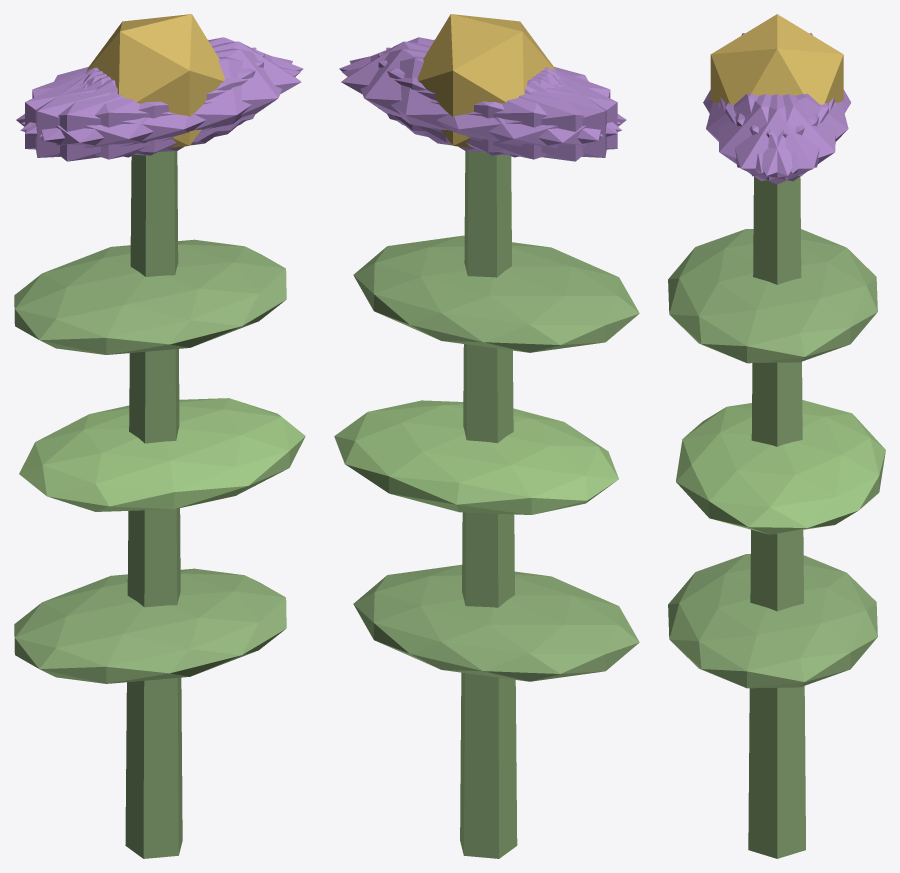
File: peltophorum-pterocarpum.glb
The picture shows the model from 3 angles, left to right: view 1: azimuth 30°, elevation 25°; view 2: azimuth 150°, elevation 25°; view 3: azimuth 270°, elevation 25°; orthographic projection.
Parts seen in each view (by area): view 1: stem, leaf2, leaf0, leaf1, center, petal1, petal6, petal2, petal5, petal7, petal0, petal4 (+2 smaller); view 2: stem, leaf2, leaf1, leaf0, center, petal8, petal3, petal7, petal4, petal2, petal0, petal5 (+2 smaller); view 3: stem, leaf1, leaf2, leaf0, center, petal0, petal4, petal5, petal8, petal1.
Boxes of the visible parts, x1,y1,x2,y2 form: stem: [125, 151, 182, 858]; leaf2: [14, 239, 286, 354]; leaf0: [14, 568, 286, 683]; leaf1: [19, 398, 305, 511]; center: [87, 14, 224, 148]; petal1: [20, 56, 300, 159]; petal6: [16, 69, 218, 161]; petal2: [35, 47, 256, 157]; petal5: [39, 48, 292, 152]; petal7: [25, 53, 264, 155]; petal0: [86, 41, 301, 142]; petal4: [21, 37, 303, 133]; stem: [460, 151, 517, 858]; leaf2: [353, 235, 639, 352]; leaf1: [334, 400, 618, 514]; leaf0: [353, 564, 639, 681]; center: [417, 14, 555, 148]; petal8: [342, 56, 621, 159]; petal3: [423, 69, 626, 161]; petal7: [386, 47, 606, 157]; petal4: [349, 48, 603, 152]; petal2: [378, 53, 617, 155]; petal0: [341, 41, 555, 142]; petal5: [339, 37, 620, 133]; stem: [748, 176, 805, 858]; leaf1: [676, 400, 885, 534]; leaf2: [668, 229, 877, 363]; leaf0: [668, 554, 877, 688]; center: [710, 14, 843, 104]; petal0: [720, 94, 834, 184]; petal4: [725, 94, 835, 181]; petal5: [718, 94, 828, 181]; petal8: [735, 93, 848, 173]; petal1: [706, 93, 819, 173].
Bounding box in the file's own units: 0.1459 × 0.4144 × 0.1005.
